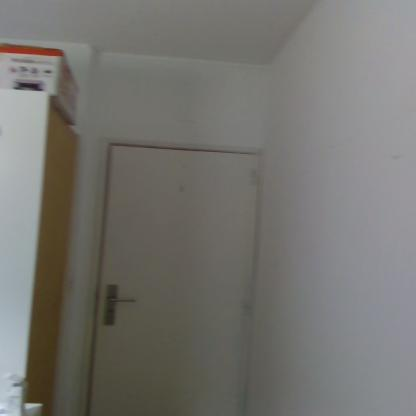door: (100, 143, 264, 415)
hinged: (252, 166, 262, 188), (244, 297, 253, 316)
lever: (108, 296, 140, 304)
